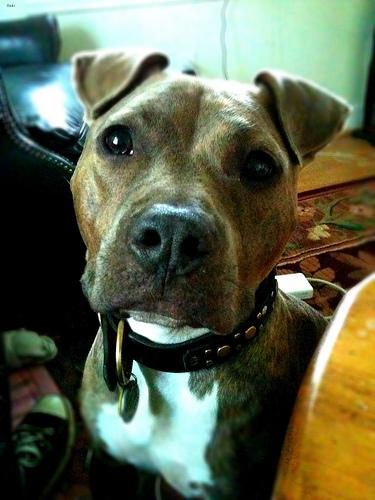dog-american_pit_bull_terrier: (70, 46, 350, 334)
